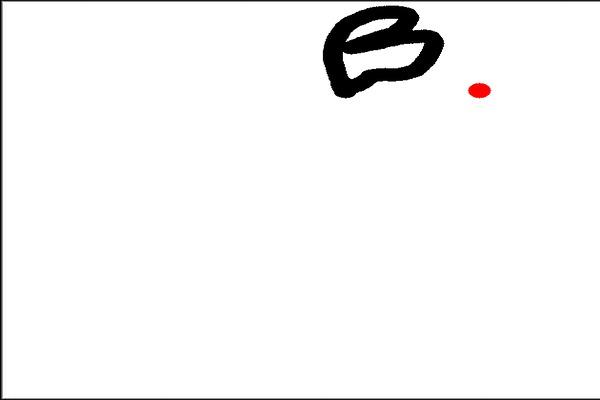B: (316, 1, 452, 108)
